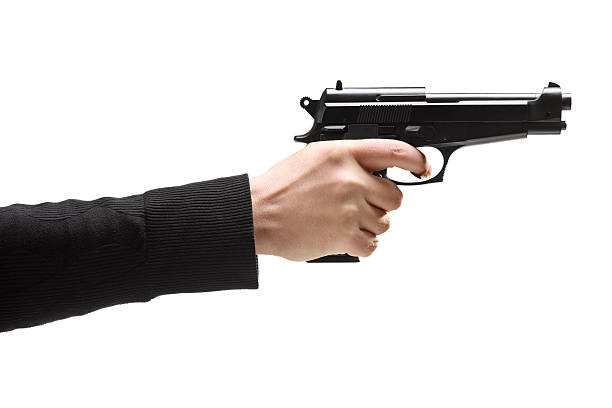gun: (217, 38, 583, 284)
